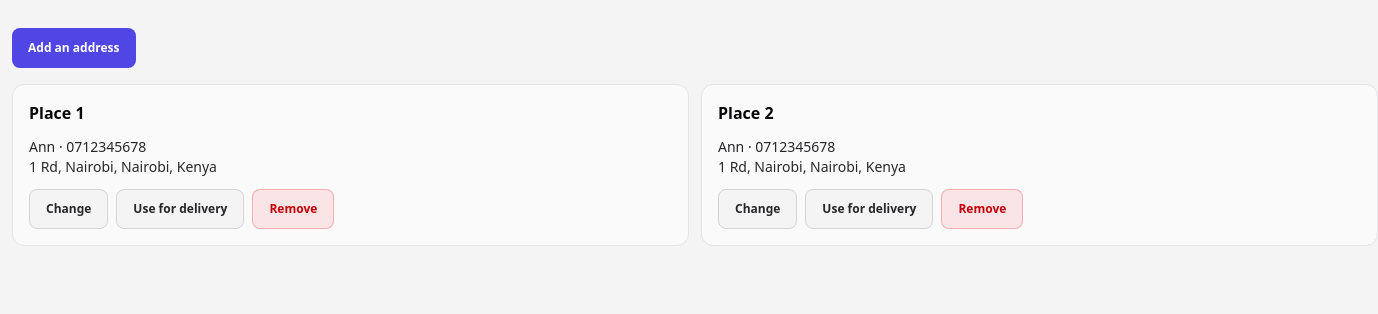
Test: my addresses › asks before removing, and offers no removal of the only address
Click the button with aria-label "Remove address Place 1" at (293, 209), box [252,189,334,229]
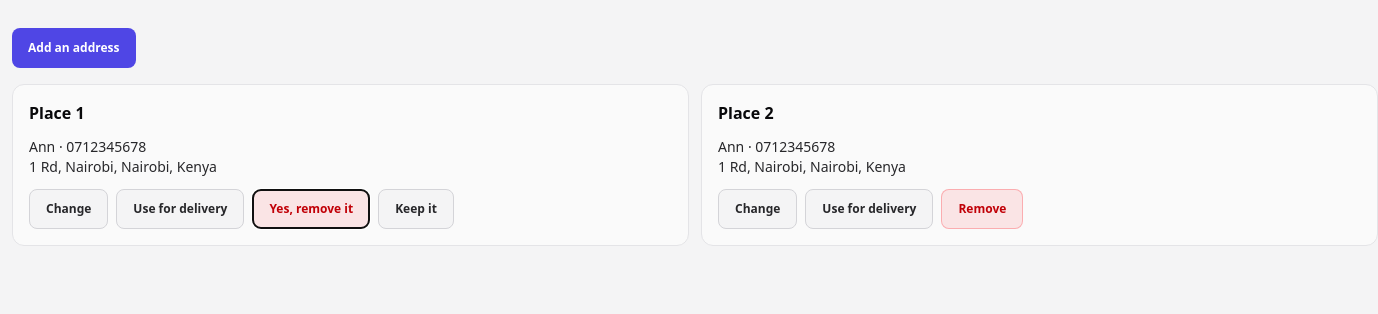
Click the button with aria-label "Confirm: Remove address Place 1" at (311, 209), box [252,189,370,229]
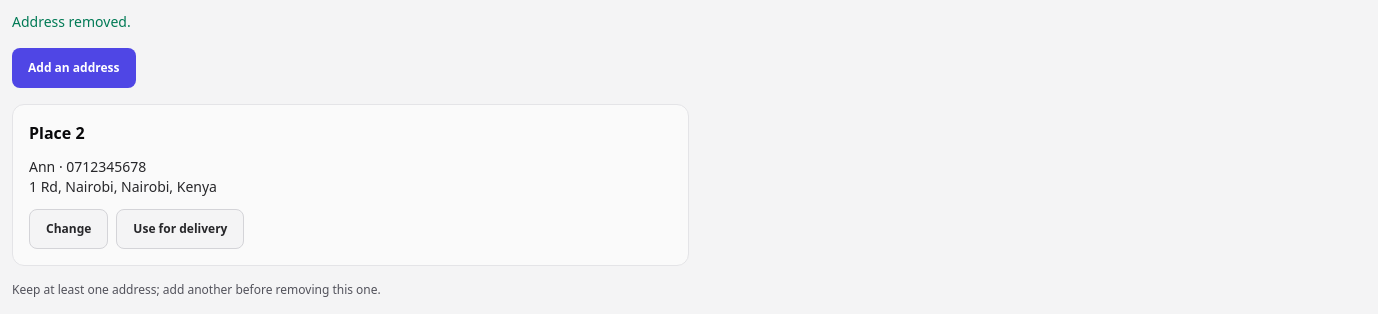
Expected: the text "Place 1" is gone
